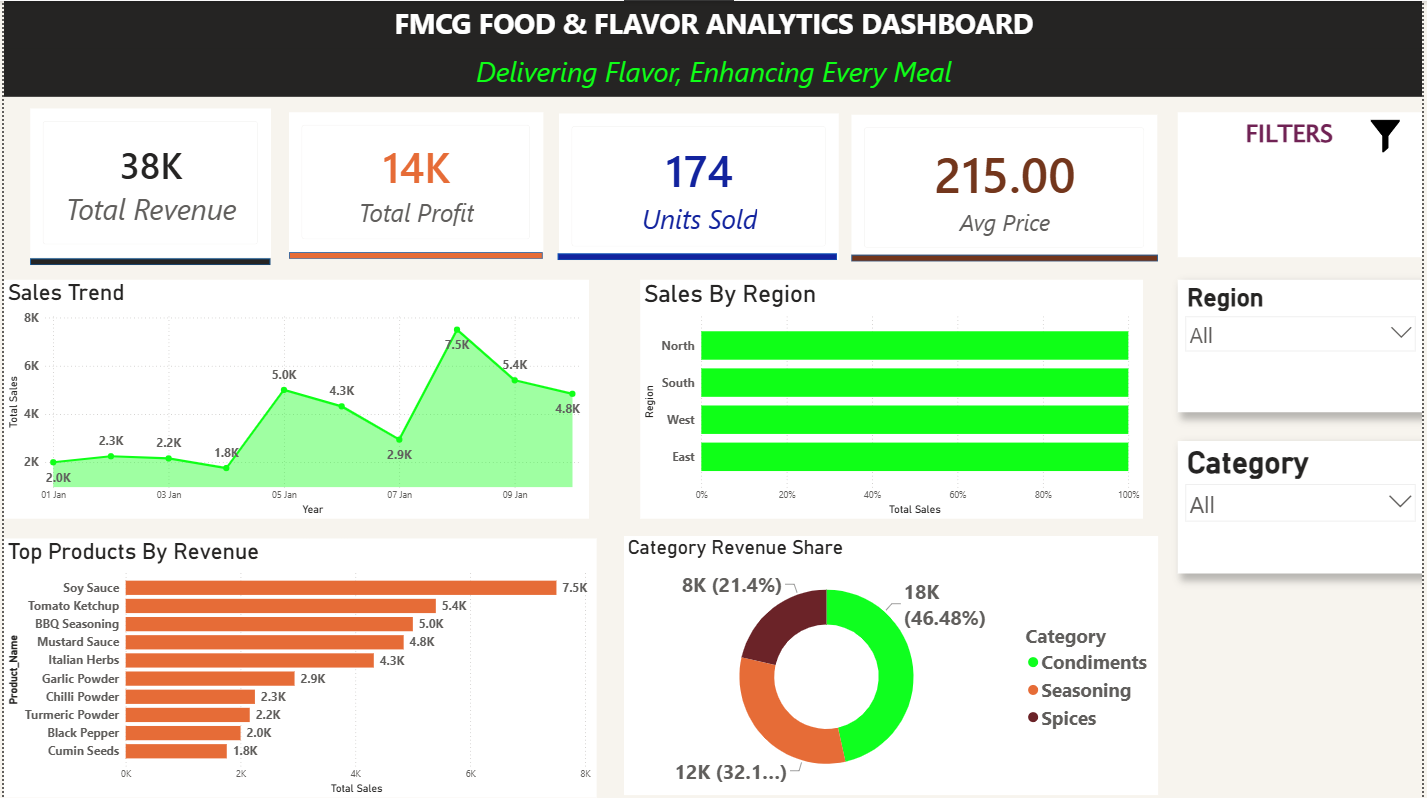

Layout of this report page (visuals, bound fields, positions):
{"tool":"powerbi","page":{"name":"FMCG Sales & Performance Overview","canvas":[1920,1080],"ordinal":0},"visuals":[{"type":"cardVisual","fields":{"Data":["Sales_data.Total Sales"]},"box":[35.6,146.1,325.2,201.7],"z":0,"group":"g4"},{"type":"group","id":"g1","title":"Group 6","box":[1587.8,149.7,331.8,196.2],"z":0,"group":"g6"},{"type":"textbox","box":[1587.8,149.7,331.8,196.2],"z":0,"group":"g1"},{"type":"cardVisual","fields":{"Data":["Sales_data.Total Profit"]},"box":[386.3,150.3,343.7,189.4],"z":0,"group":"g5"},{"type":"cardVisual","fields":{"Data":["Sales_data.Total Quantity"]},"box":[750.1,152.3,378.7,197.6],"z":0,"group":"g3"},{"type":"cardVisual","fields":{"Data":["Sales_data.Avg Price"]},"box":[1146,154.4,413.7,197.6],"z":0,"group":"g2"},{"type":"lineChart","title":"Sales Trend","fields":{"Y":["Sales_data.Total Sales"],"Category":["Sales_data.Date.Variation.Date Hierarchy.Year","Sales_data.Date.Variation.Date Hierarchy.Quarter","Sales_data.Date.Variation.Date Hierarchy.Month","Sales_data.Date.Variation.Date Hierarchy.Day"]},"box":[0,377.7,791,323.5],"z":0},{"type":"image","box":[1846.6,160.1,43.8,43.8],"z":1000,"group":"g1"},{"type":"shape","box":[386.1,340,343,9.2],"z":1000,"group":"g5"},{"type":"shape","box":[749.2,342,377.9,9.2],"z":1000,"group":"g3"},{"type":"shape","box":[1145.7,344.1,414.5,9.2],"z":1000,"group":"g2"},{"type":"shape","box":[35.5,348.2,324.7,9.2],"z":1000,"group":"g4"},{"type":"hundredPercentStackedBarChart","title":"Sales By Region ","fields":{"Y":["Sales_data.Total Sales"],"Category":["Sales_data.Region"]},"box":[859.8,377.7,680.3,323.5],"z":1000},{"type":"barChart","title":"Top Products By Revenue","fields":{"Category":["Sales_data.Product_Name"],"Y":["Sales_data.Total Sales"]},"box":[0,726.3,801.4,350.6],"z":2000},{"type":"donutChart","title":"Category Revenue Share","fields":{"Category":["Sales_data.Category"],"Y":["Sum(Sales_data.Total_Sales)"]},"box":[839,724.2,722.1,350.6],"z":3000},{"type":"textbox","box":[0,0,1920,129.4],"z":4000},{"type":"textbox","box":[0,64.7,1920,62.6],"z":5000},{"type":"group","id":"g2","title":"Group 1","box":[1145.7,154.4,415.3,198.3],"z":6000},{"type":"group","id":"g3","title":"Group 2","box":[749.2,152.3,377.7,198.3],"z":7000},{"type":"group","id":"g4","title":"Group 3","box":[35.5,146.1,323.5,210.8],"z":8000},{"type":"group","id":"g5","title":"Group 4","box":[386.1,150.3,344.3,198.3],"z":9000},{"type":"group","id":"g6","title":"Group 5","box":[1587.8,149.7,331.8,196.2],"z":10000},{"type":"slicer","fields":{"Values":["Sales_data.Region"]},"box":[1588.2,377.7,331.8,179],"z":11000},{"type":"slicer","fields":{"Values":["Sales_data.Category"]},"box":[1588.2,594.8,331.8,179.5],"z":12000}]}

Visuals, with their boxes in screenshot pixels (x1, y1, x2, y2), scaled from the page's 1920x1080 canvas onto the 1427x798 screenshot:
cardVisual - Sales_data.Total Sales: <box>26,108,268,257</box>
"Group 6" group: <box>1180,111,1426,256</box>
textbox: <box>1180,111,1426,256</box>
cardVisual - Sales_data.Total Profit: <box>287,111,543,251</box>
cardVisual - Sales_data.Total Quantity: <box>557,113,839,259</box>
cardVisual - Sales_data.Avg Price: <box>852,114,1159,260</box>
"Sales Trend" lineChart: <box>0,279,588,518</box>
image: <box>1372,118,1405,151</box>
shape: <box>287,251,542,258</box>
shape: <box>557,253,838,259</box>
shape: <box>852,254,1160,261</box>
shape: <box>26,257,268,264</box>
"Sales By Region " hundredPercentStackedBarChart: <box>639,279,1145,518</box>
"Top Products By Revenue" barChart: <box>0,537,596,796</box>
"Category Revenue Share" donutChart: <box>624,535,1160,794</box>
textbox: <box>0,0,1426,96</box>
textbox: <box>0,48,1426,94</box>
"Group 1" group: <box>852,114,1160,261</box>
"Group 2" group: <box>557,113,838,259</box>
"Group 3" group: <box>26,108,267,264</box>
"Group 4" group: <box>287,111,543,258</box>
"Group 5" group: <box>1180,111,1426,256</box>
slicer - Sales_data.Region: <box>1180,279,1426,411</box>
slicer - Sales_data.Category: <box>1180,439,1426,572</box>
